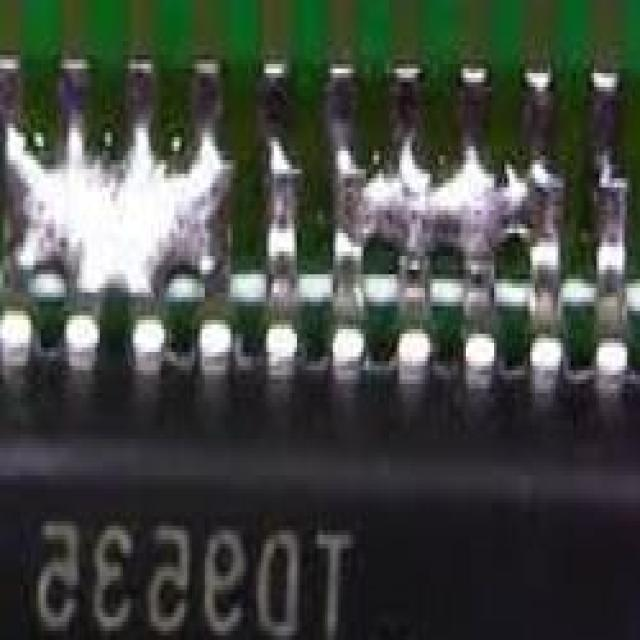Short_circuit: (9, 120, 234, 294)
